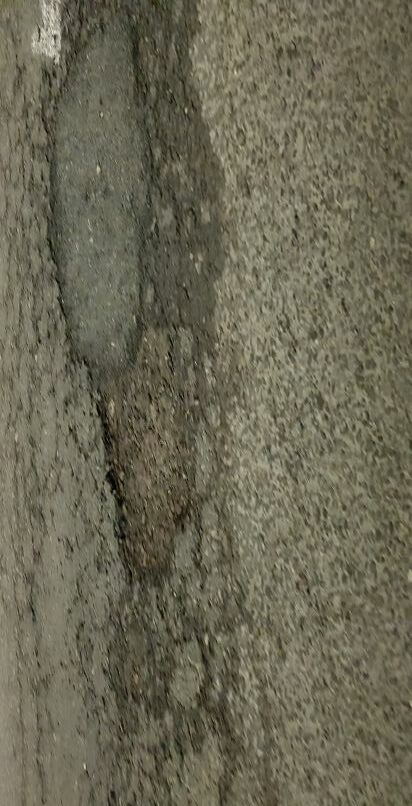pothole: (103, 288, 202, 592)
